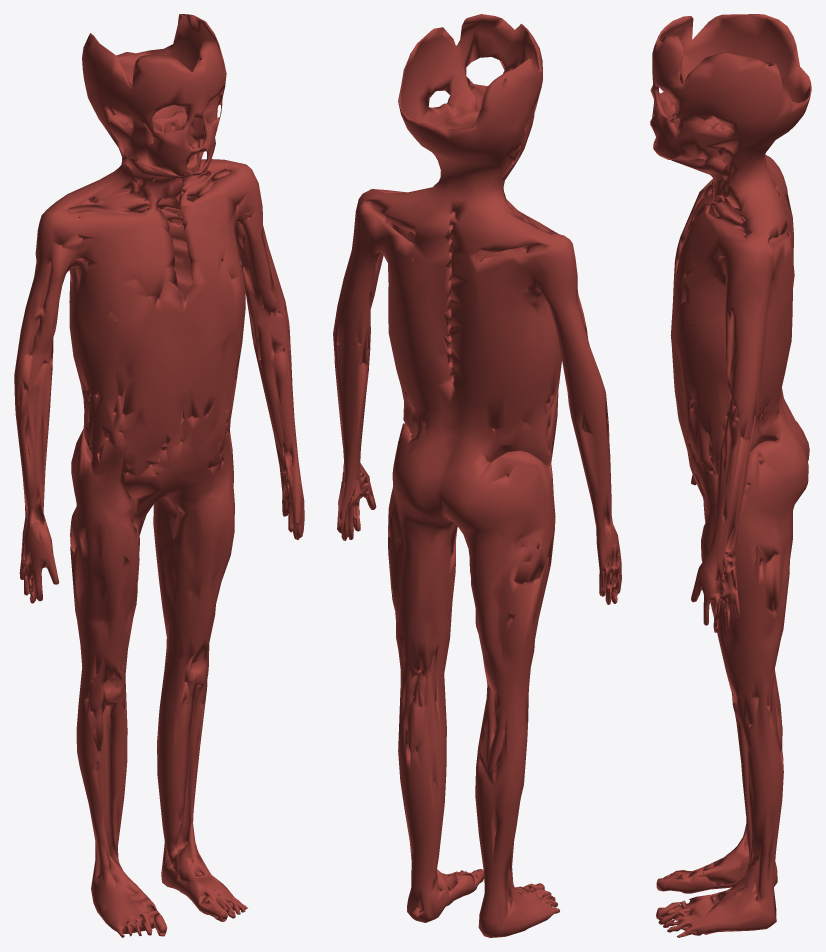
The model's file is pediatric_child_5y_male.muscular.LOD2.glb.
3 renders of one model, left to right at view 1: azimuth 30°, elevation 25°; view 2: azimuth 150°, elevation 25°; view 3: azimuth 270°, elevation 25°, orthographic.
Visible parts, largest first — view 1: PEDIATRIC.CHILD_5Y.MALE.MUSCULAR.MUSCLE; view 2: PEDIATRIC.CHILD_5Y.MALE.MUSCULAR.MUSCLE; view 3: PEDIATRIC.CHILD_5Y.MALE.MUSCULAR.MUSCLE.
Boxes of the visible parts, <box> form: PEDIATRIC.CHILD_5Y.MALE.MUSCULAR.MUSCLE: <box>14,14,304,937</box>; PEDIATRIC.CHILD_5Y.MALE.MUSCULAR.MUSCLE: <box>333,14,621,937</box>; PEDIATRIC.CHILD_5Y.MALE.MUSCULAR.MUSCLE: <box>650,14,811,937</box>.
Size of the model in its own units: 0.3468 by 1.06 by 0.1767.
